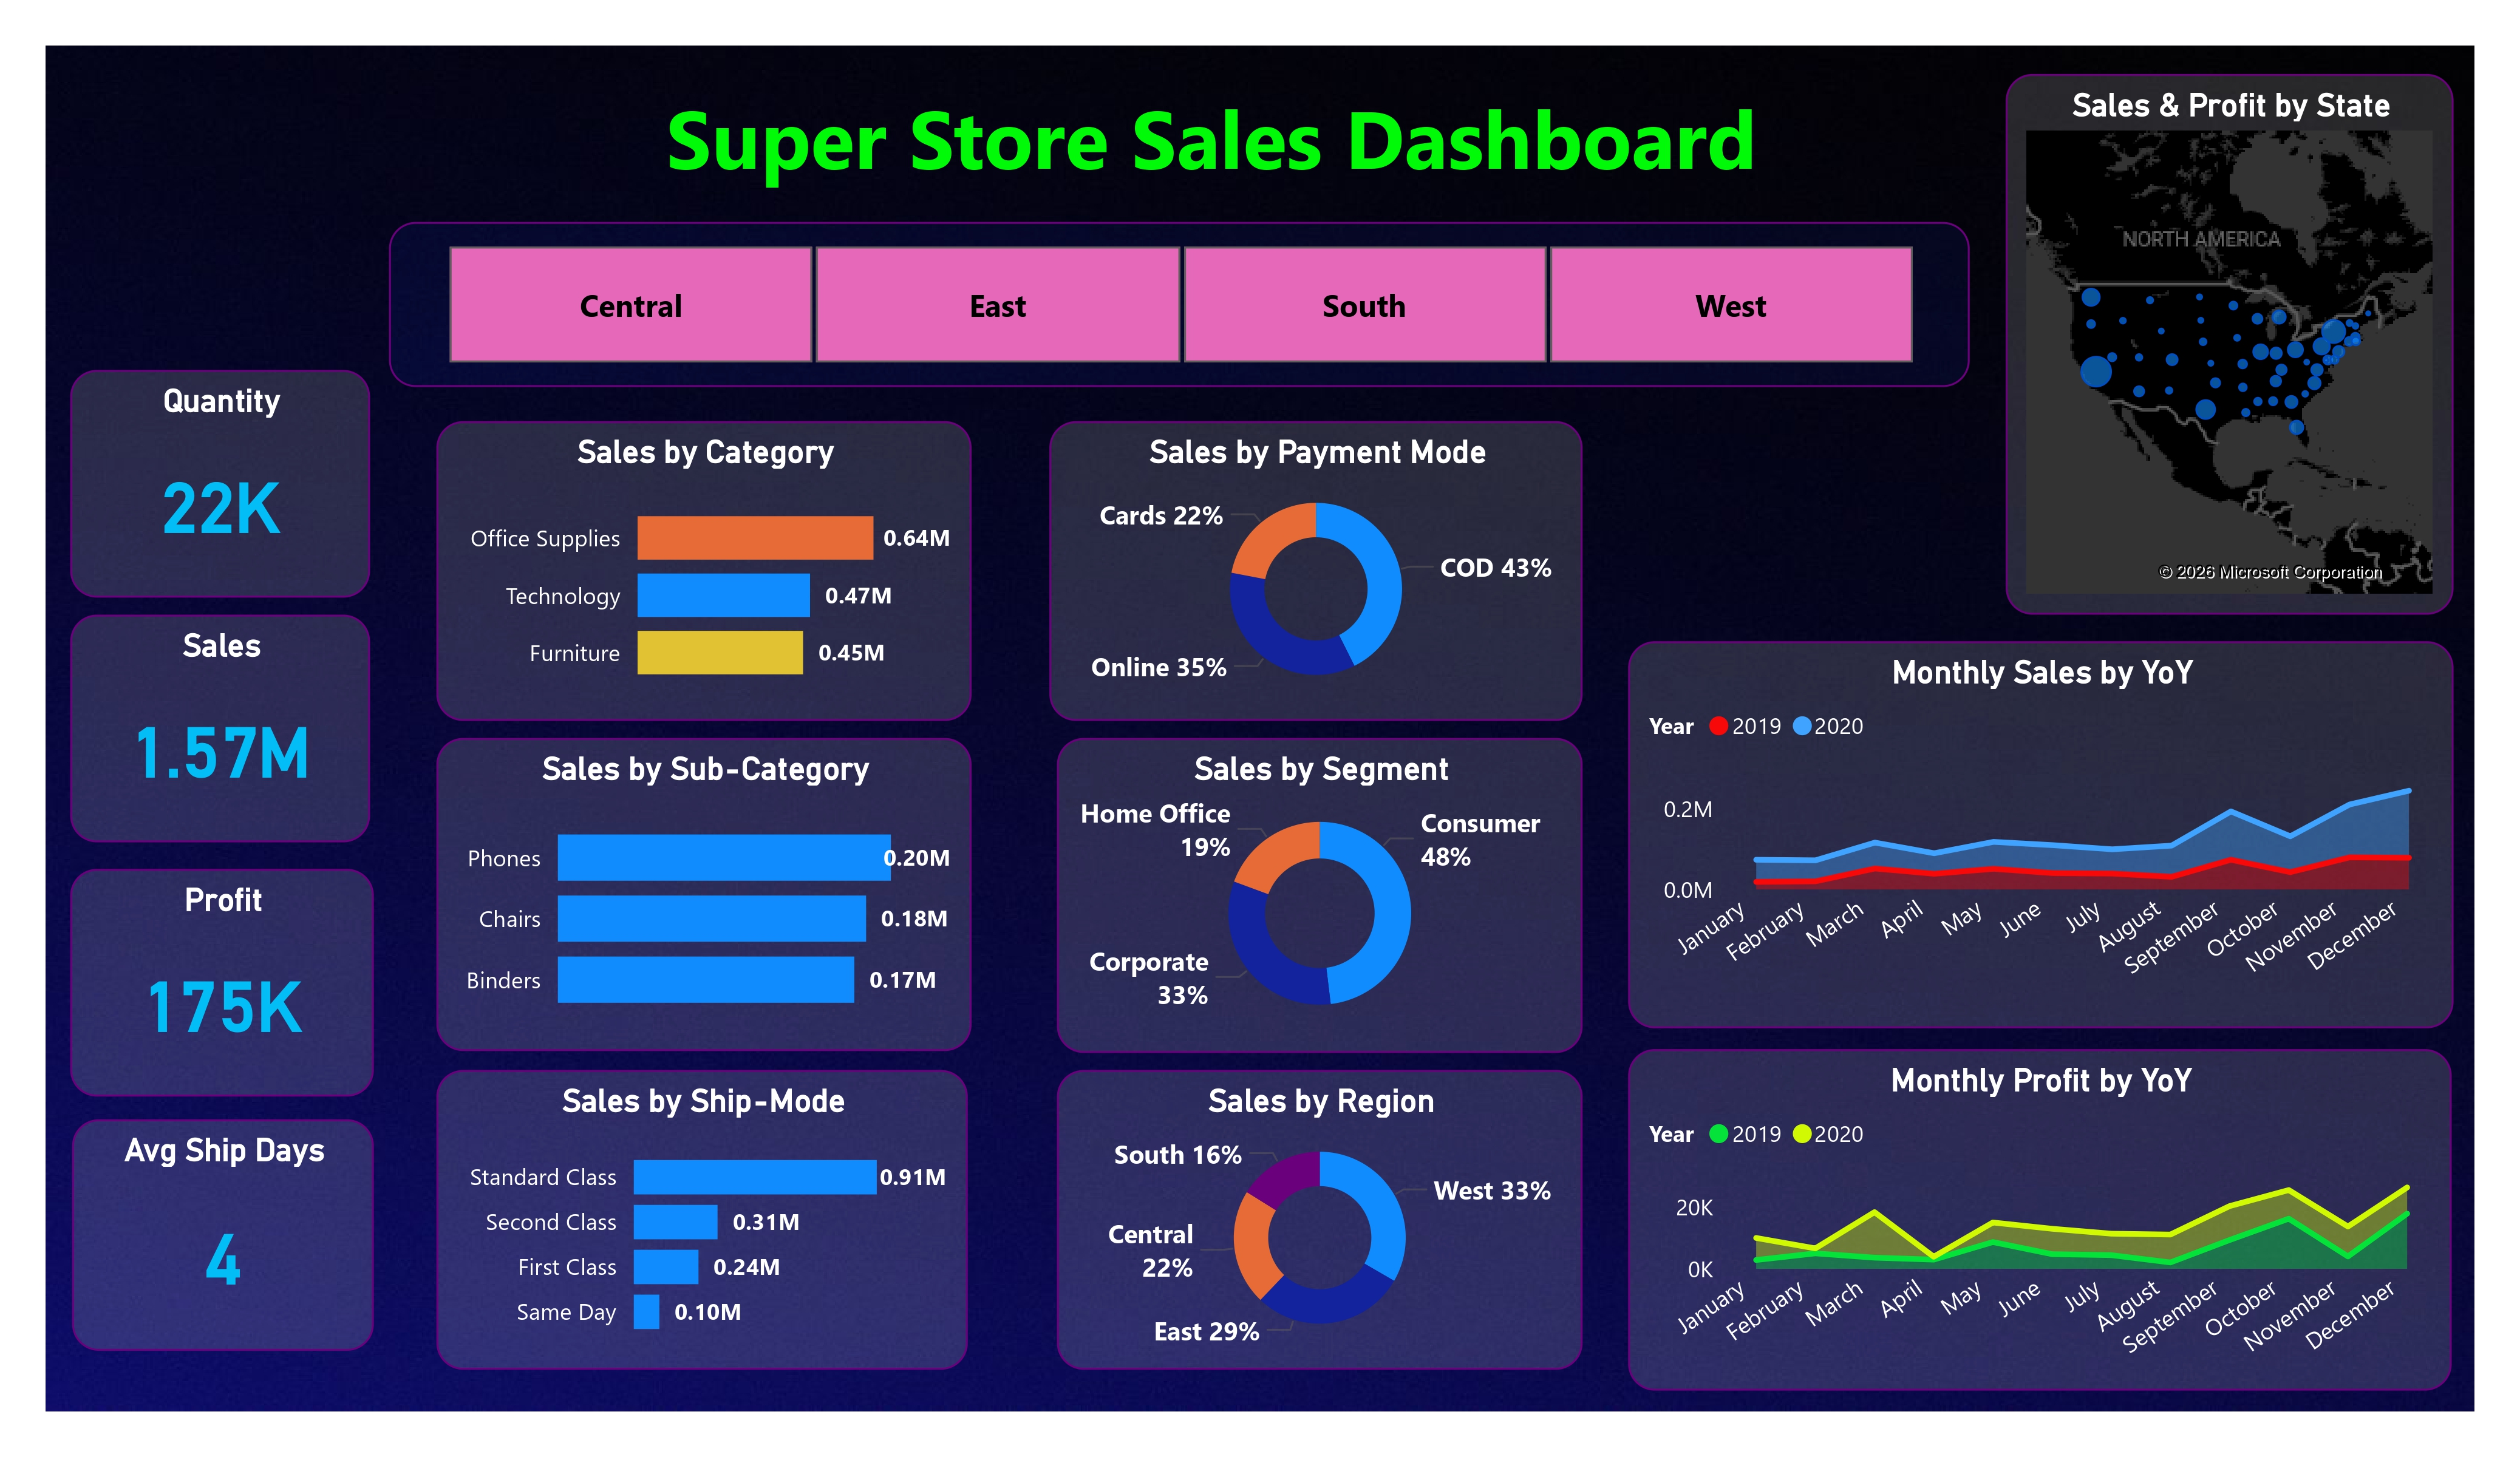

This screenshot's page, from the dashboard's own definition file:
{"tool":"powerbi","page":{"name":"Dashboard","canvas":[1280,720],"ordinal":0},"visuals":[{"type":"clusteredBarChart","title":"Sales by Category","fields":{"Category":["SuperStore_Sales_Dataset.Category"],"Y":["SuperStore_Sales_Dataset.Sales"]},"box":[206.2,197.5,281.2,158.8],"z":0},{"type":"clusteredBarChart","title":"Sales by Sub-Category","fields":{"Category":["SuperStore_Sales_Dataset.Sub-Category"],"Y":["SuperStore_Sales_Dataset.Sales"]},"box":[206.2,365,281.2,165],"z":1000},{"type":"clusteredBarChart","title":"Sales by Ship-Mode","fields":{"Category":["SuperStore_Sales_Dataset.Ship Mode"],"Y":["SuperStore_Sales_Dataset.Sales"]},"box":[206.2,540,280,157.5],"z":2000},{"type":"stackedAreaChart","title":"Monthly Sales by YoY","fields":{"Y":["SuperStore_Sales_Dataset.Sales"],"Category":["SuperStore_Sales_Dataset.Order Date.Variation.Date Hierarchy.Month","SuperStore_Sales_Dataset.Order Date.Variation.Date Hierarchy.Day"],"Series":["SuperStore_Sales_Dataset.Order Date.Variation.Date Hierarchy.Year"]},"box":[833.8,313.8,435,203.8],"z":3000},{"type":"stackedAreaChart","title":"Monthly Profit by YoY","fields":{"Y":["SuperStore_Sales_Dataset.Profit"],"Category":["SuperStore_Sales_Dataset.Order Date.Variation.Date Hierarchy.Month","SuperStore_Sales_Dataset.Order Date.Variation.Date Hierarchy.Day"],"Series":["SuperStore_Sales_Dataset.Order Date.Variation.Date Hierarchy.Year"]},"box":[833.8,528.8,433.8,180],"z":4000},{"type":"map","title":"Sales & Profit by State","fields":{"Size":["SuperStore_Sales_Dataset.Sales"],"Category":["SuperStore_Sales_Dataset.State"]},"box":[1032.5,15,236.2,285],"z":5000},{"type":"donutChart","title":"Sales by Segment","fields":{"Y":["SuperStore_Sales_Dataset.Sales"],"Category":["SuperStore_Sales_Dataset.Segment"]},"box":[532.5,365,277.5,166.2],"z":6000},{"type":"donutChart","title":"Sales by Payment Mode","fields":{"Y":["SuperStore_Sales_Dataset.Sales"],"Category":["SuperStore_Sales_Dataset.Payment Mode"]},"box":[528.8,197.5,281.2,158.8],"z":7000},{"type":"donutChart","title":"Sales by Region","fields":{"Y":["SuperStore_Sales_Dataset.Sales"],"Category":["SuperStore_Sales_Dataset.Region"]},"box":[532.5,540,277.5,157.5],"z":8000},{"type":"slicer","fields":{"Values":["SuperStore_Sales_Dataset.Region"]},"box":[181.2,92.5,832.5,87.5],"z":9000},{"type":"textbox","box":[33.3,14.4,1162.2,110],"z":10000},{"type":"card","title":"Sales ","fields":{"Values":["SuperStore_Sales_Dataset.Sales"]},"box":[12.5,300,158.8,120],"z":11000},{"type":"card","title":"Quantity","fields":{"Values":["SuperStore_Sales_Dataset.Quantity"]},"box":[12.5,171.2,158.8,120],"z":12000},{"type":"card","title":"Profit","fields":{"Values":["SuperStore_Sales_Dataset.Profit"]},"box":[12.5,433.8,160,120],"z":13000},{"type":"card","title":"Avg Ship Days","fields":{"Values":["SuperStore_Sales_Dataset.avgshipdate"]},"box":[13.8,566.2,158.8,121.2],"z":14000}]}

Visuals, with their boxes on the page's 1280x720 design canvas (x1, y1, x2, y2). These are canvas units, not pixel positions in the 2520x1457 screenshot, which may show the page scaled, cropped or inside an application window:
"Sales by Category" clusteredBarChart: left=206, top=198, right=487, bottom=356
"Sales by Sub-Category" clusteredBarChart: left=206, top=365, right=487, bottom=530
"Sales by Ship-Mode" clusteredBarChart: left=206, top=540, right=486, bottom=698
"Monthly Sales by YoY" stackedAreaChart: left=834, top=314, right=1269, bottom=518
"Monthly Profit by YoY" stackedAreaChart: left=834, top=529, right=1268, bottom=709
"Sales & Profit by State" map: left=1032, top=15, right=1269, bottom=300
"Sales by Segment" donutChart: left=532, top=365, right=810, bottom=531
"Sales by Payment Mode" donutChart: left=529, top=198, right=810, bottom=356
"Sales by Region" donutChart: left=532, top=540, right=810, bottom=698
slicer - SuperStore_Sales_Dataset.Region: left=181, top=92, right=1014, bottom=180
textbox: left=33, top=14, right=1196, bottom=124
"Sales " card: left=12, top=300, right=171, bottom=420
"Quantity" card: left=12, top=171, right=171, bottom=291
"Profit" card: left=12, top=434, right=172, bottom=554
"Avg Ship Days" card: left=14, top=566, right=173, bottom=687
